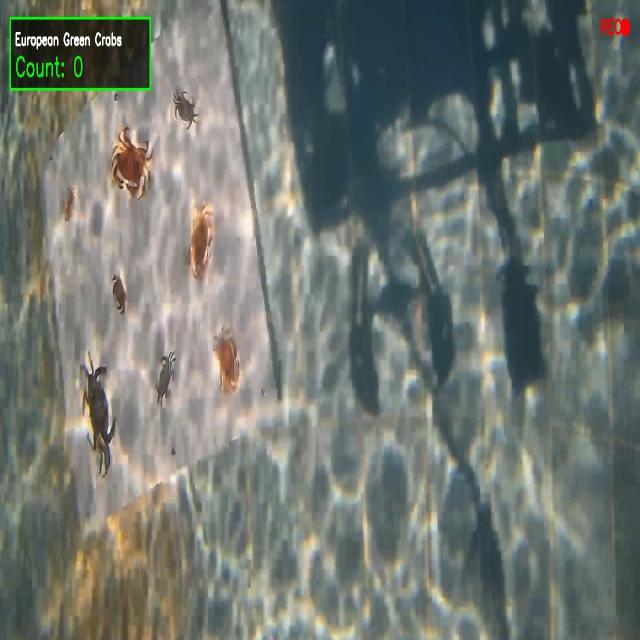European_Green_Crab: (76, 343, 122, 487), (153, 348, 182, 410), (168, 80, 200, 135)
